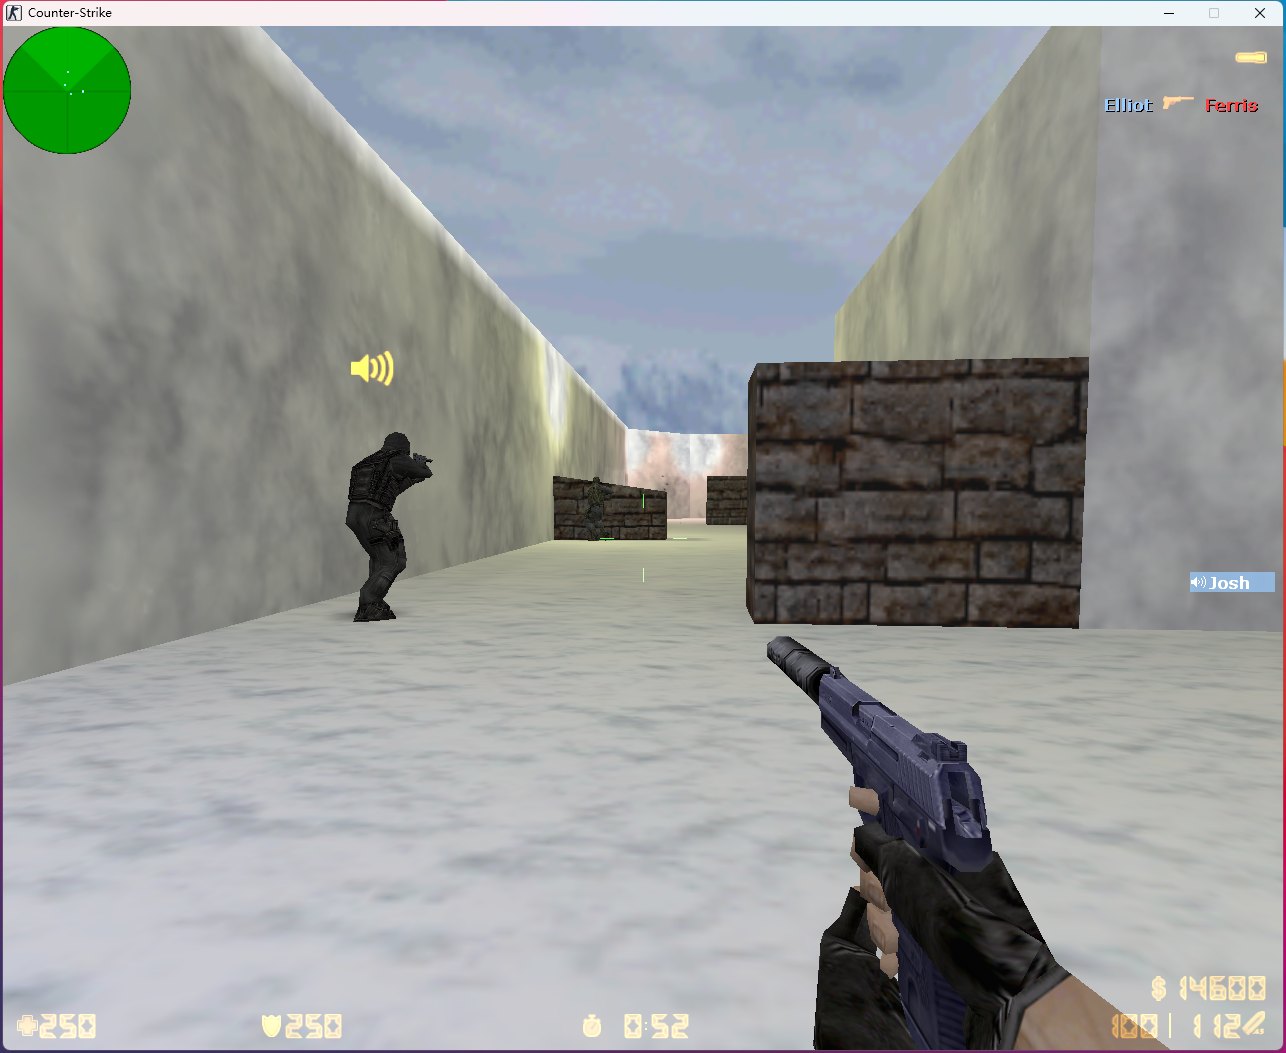C: (341, 431, 432, 627), (583, 475, 612, 543)
